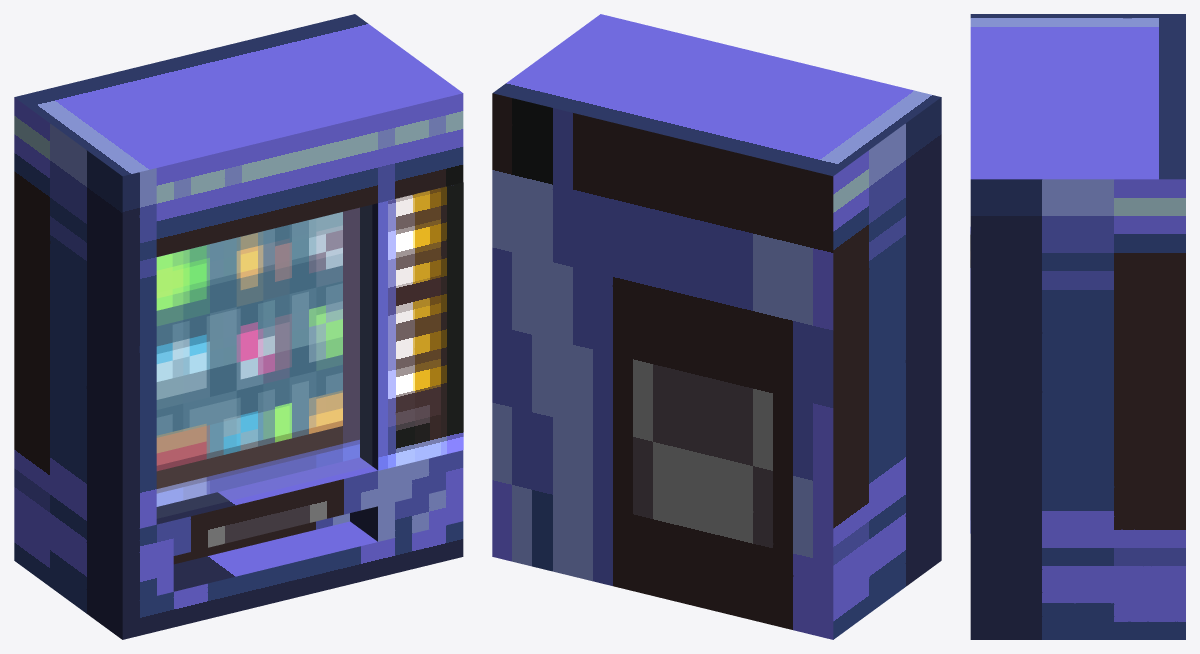
File: vending_snackblue.glb
The picture shows the model from 3 angles, left to right: view 1: azimuth 30°, elevation 25°; view 2: azimuth 150°, elevation 25°; view 3: azimuth 270°, elevation 25°; orthographic projection.
Visible parts, largest first — view 1: vending_snackblue_Cabinet, vending_snackblue, vending_snackblue_Display_Glass, vending_snackblue_Delivery_Flap; view 2: vending_snackblue_Cabinet; view 3: vending_snackblue_Cabinet.
Part boxes in pixels (x1,y1,x2,y2): vending_snackblue_Cabinet: (14,14,463,639); vending_snackblue: (156,182,463,506); vending_snackblue_Display_Glass: (157,205,371,517); vending_snackblue_Delivery_Flap: (173,513,349,564); vending_snackblue_Cabinet: (492,14,941,639); vending_snackblue_Cabinet: (970,14,1185,639).
Size of the model in its own units: 1.2 by 1.56 by 0.662.
Materials: 4 (3 with a texture image).
